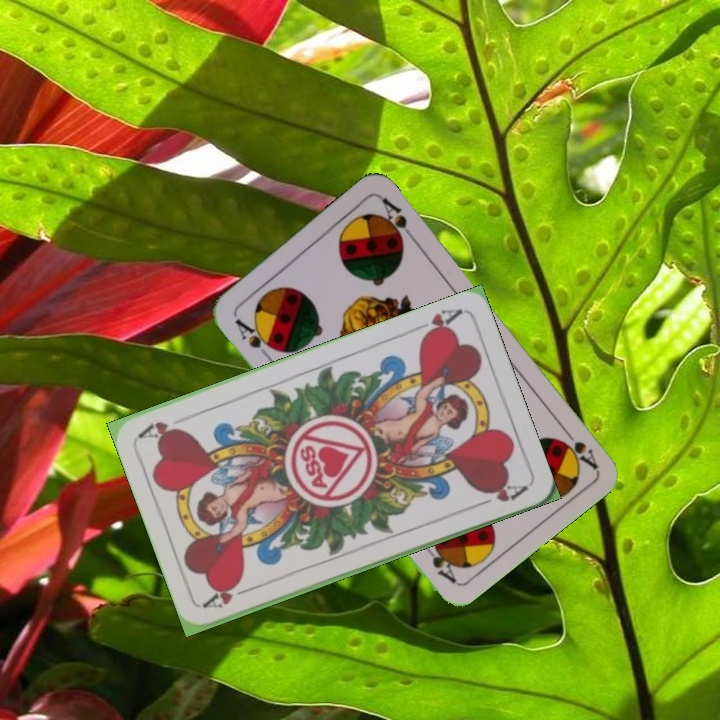HA: (408, 304, 465, 343), (200, 579, 257, 611)
SA: (230, 314, 279, 361), (554, 421, 600, 471)
